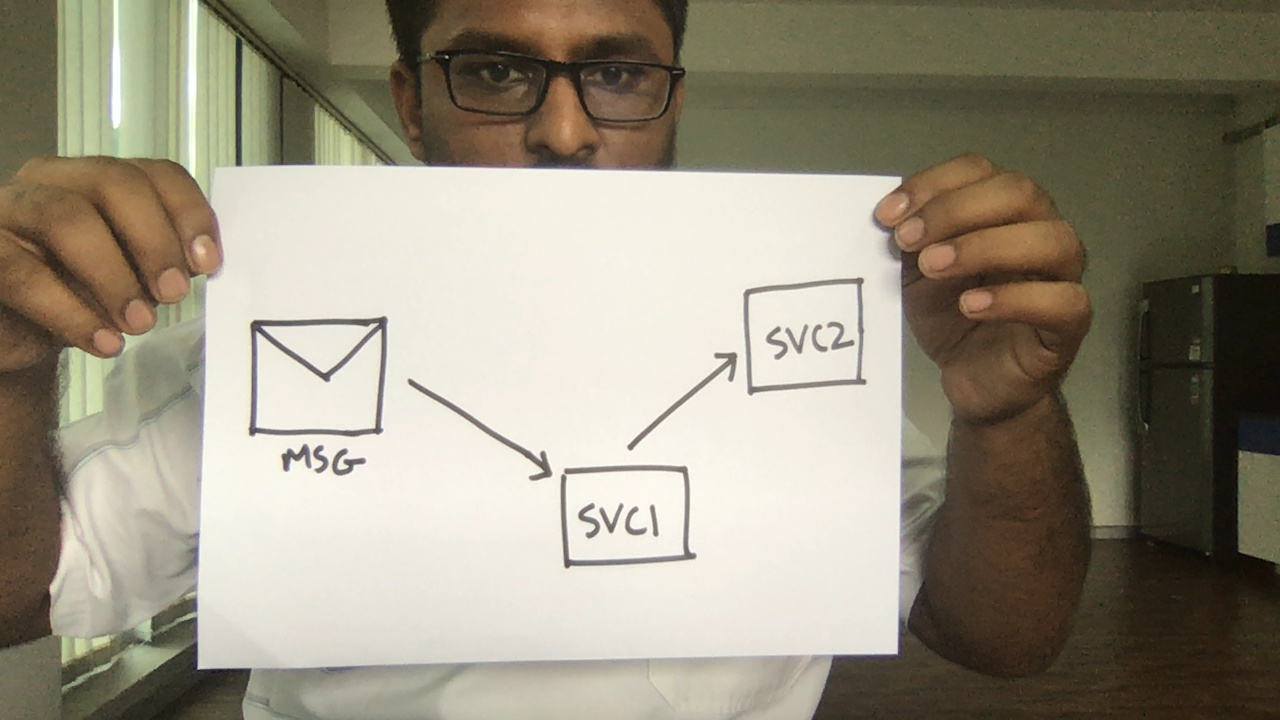arrow: (402, 370, 560, 487), (620, 349, 743, 456)
ec2: (737, 272, 876, 401), (557, 460, 699, 578)
sns: (241, 308, 405, 484)
